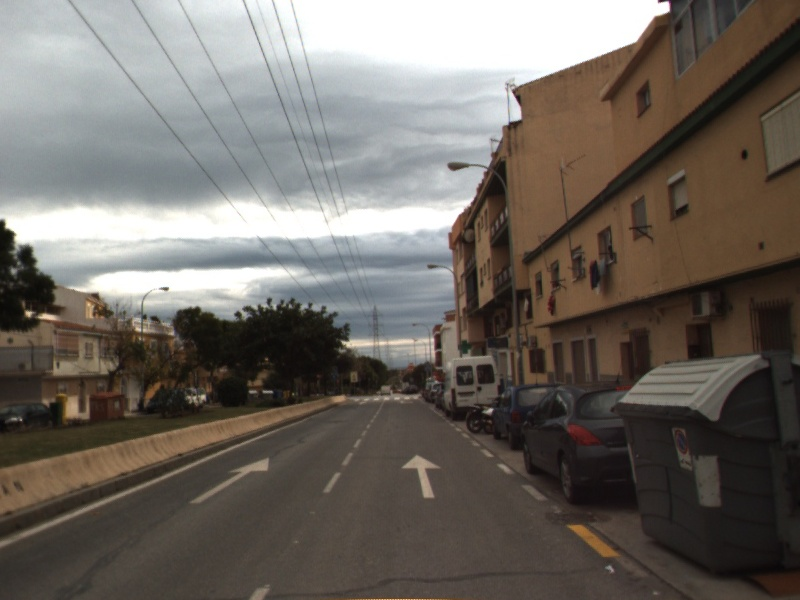STRAIGHT: (187, 455, 271, 505), (399, 452, 444, 500)
